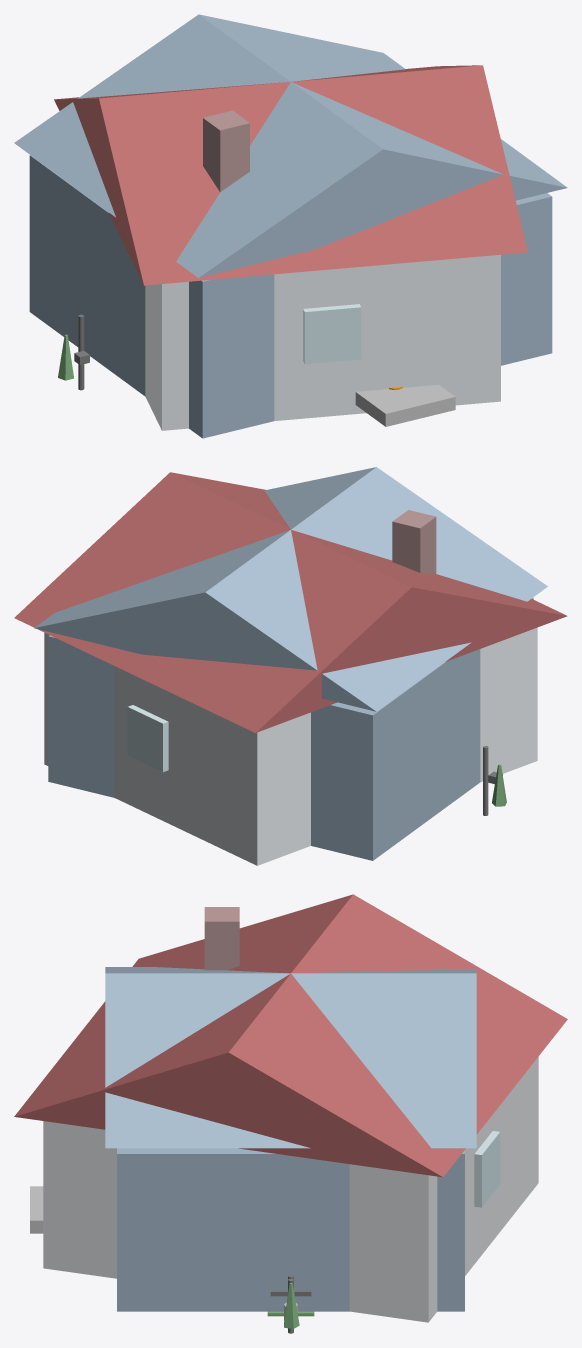
Rendered from house_prometheus.glb.
3 views of the same model, one above another, from view 1: azimuth 30°, elevation 25°; view 2: azimuth 150°, elevation 25°; view 3: azimuth 270°, elevation 25° (orthographic). The views are drawn at different scales.
Visible parts, largest first — view 1: prometheus_atap.003, prometheus_atap.002, prometheus_dinding.003, prometheus_dinding.002, prometheus_jendela_1.001, prometheus_cerobong.001, prometheus_hearth.001; view 2: prometheus_atap.002, prometheus_atap.003, prometheus_dinding.003, prometheus_dinding.002, prometheus_cerobong.001, prometheus_jendela_-1.001; view 3: prometheus_atap.002, prometheus_dinding.003, prometheus_atap.003, prometheus_dinding.002, prometheus_cerobong.001, prometheus_jendela_-1.001, prometheus_hearth.001.
Part boxes in pixels (x1,y1,x2,y2): prometheus_atap.003: [14, 14, 567, 277]; prometheus_atap.002: [54, 65, 527, 285]; prometheus_dinding.003: [29, 155, 552, 438]; prometheus_dinding.002: [145, 254, 500, 430]; prometheus_jendela_1.001: [303, 304, 361, 364]; prometheus_cerobong.001: [203, 110, 249, 192]; prometheus_hearth.001: [355, 384, 455, 426]; prometheus_atap.002: [14, 472, 567, 732]; prometheus_atap.003: [34, 467, 547, 711]; prometheus_dinding.003: [48, 598, 533, 860]; prometheus_dinding.002: [44, 627, 537, 865]; prometheus_cerobong.001: [392, 510, 436, 573]; prometheus_jendela_-1.001: [127, 705, 168, 772]; prometheus_atap.002: [14, 894, 567, 1177]; prometheus_dinding.003: [117, 1148, 464, 1311]; prometheus_atap.003: [105, 967, 476, 1148]; prometheus_dinding.002: [43, 1057, 538, 1322]; prometheus_cerobong.001: [204, 907, 239, 970]; prometheus_jendela_-1.001: [474, 1131, 500, 1207]; prometheus_hearth.001: [30, 1186, 43, 1233].
Bounding box in the file's own units: 9.29 × 5.1 × 9.55.
